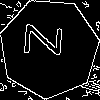Z: (24, 23, 72, 57)
